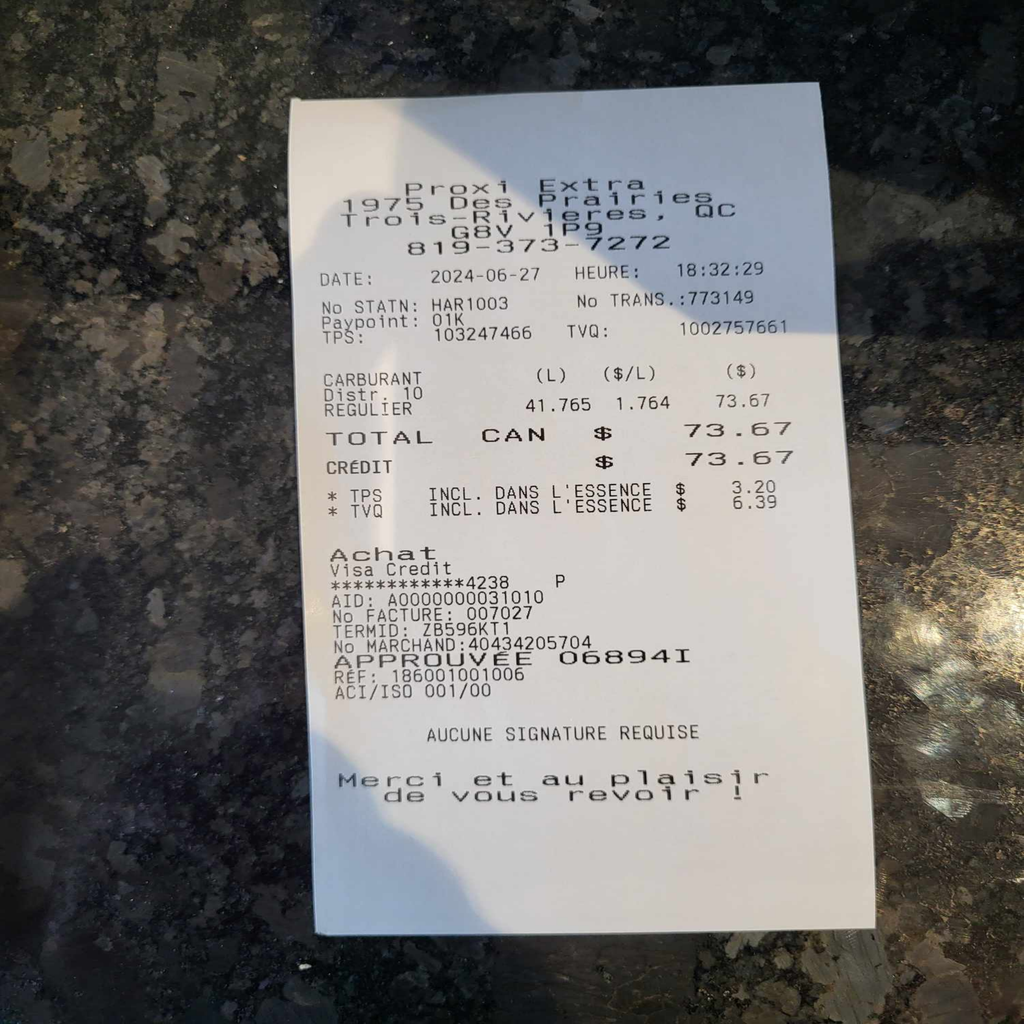recipt: (288, 84, 886, 936)
